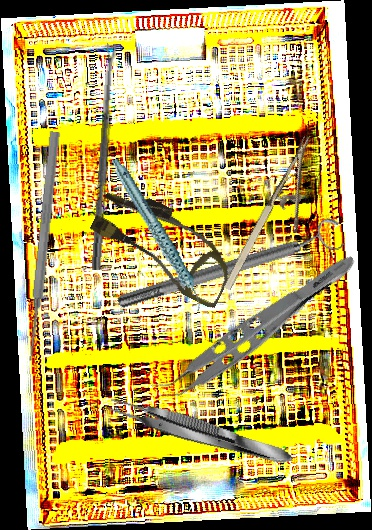Cannula: (81, 180, 246, 310)
Fixation Ring: (112, 214, 348, 319)
Handpiece: (110, 147, 205, 323)
Needle Holder: (218, 135, 341, 305)
Pusher: (22, 130, 63, 363)
Surgical Spoon: (91, 43, 118, 271)
Tissue Forceps: (148, 236, 361, 415), (105, 391, 296, 473)
